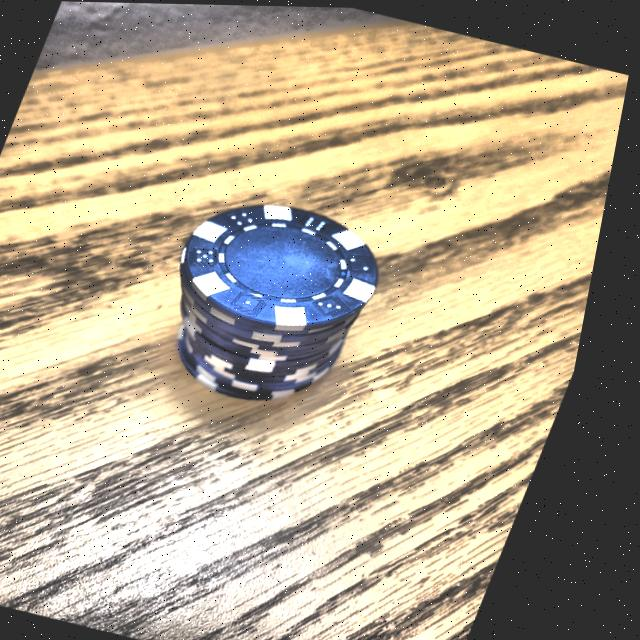Chip: (111, 157, 444, 455)
